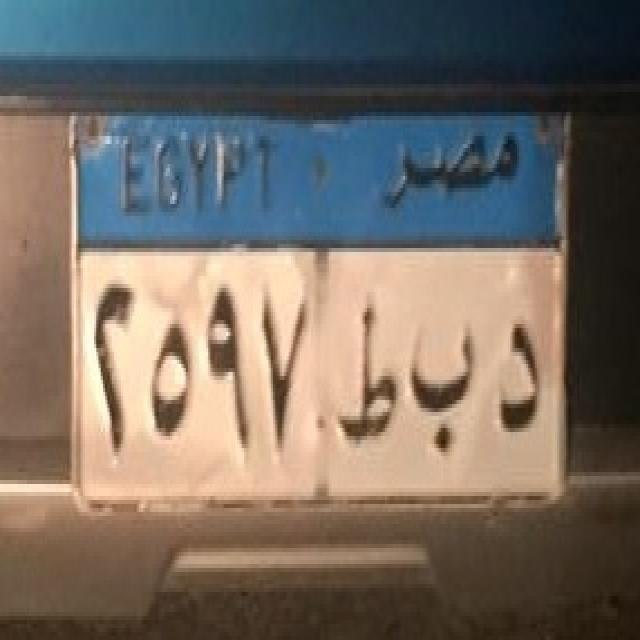2: (81, 270, 141, 460)
5: (147, 298, 200, 448)
7: (250, 284, 312, 454)
9: (202, 277, 258, 464)
Taa: (331, 288, 406, 458)
baa: (408, 309, 488, 468)
daal: (494, 304, 548, 446)
